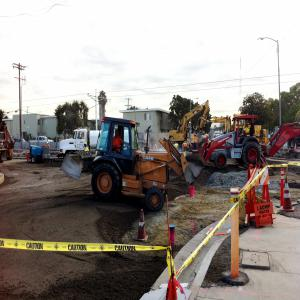none: (116, 130, 121, 138)
red: (246, 123, 250, 129), (195, 135, 198, 138), (188, 143, 190, 147)
white: (47, 143, 50, 146)
yellow: (85, 143, 88, 148)
